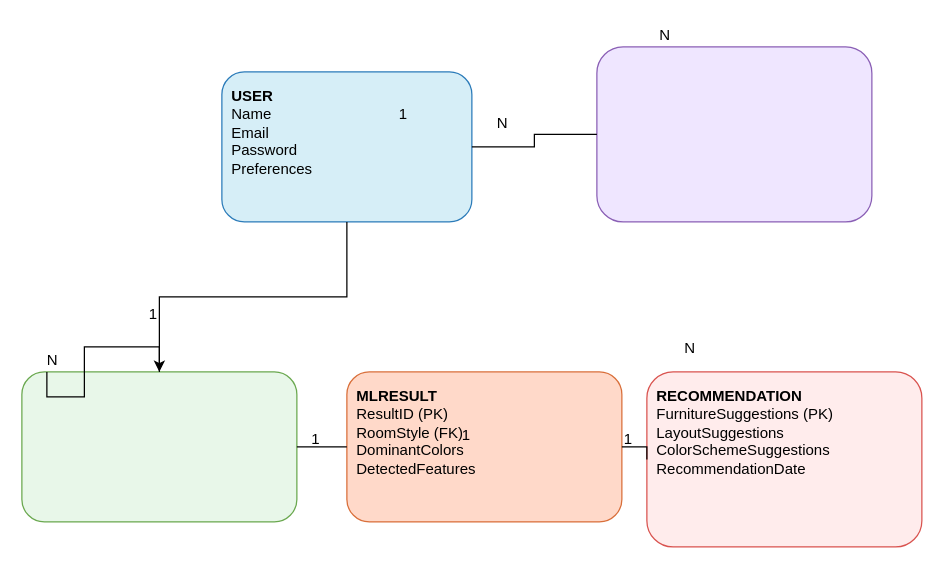
The diagram is 944 pixels wide and 569 high, and some of its shapes have lost their labels. The shapes that lost their labels are listed below. From the top down, each one's centre as x and y in pixels, then its label:
the point at 734,134: SESSION SessionID (PK) LoginTime (FK) LogoutTime ActivityLog
the point at 159,446: ROOMIMAGE ImageID (PK) UploadDate ImageURL Processed
